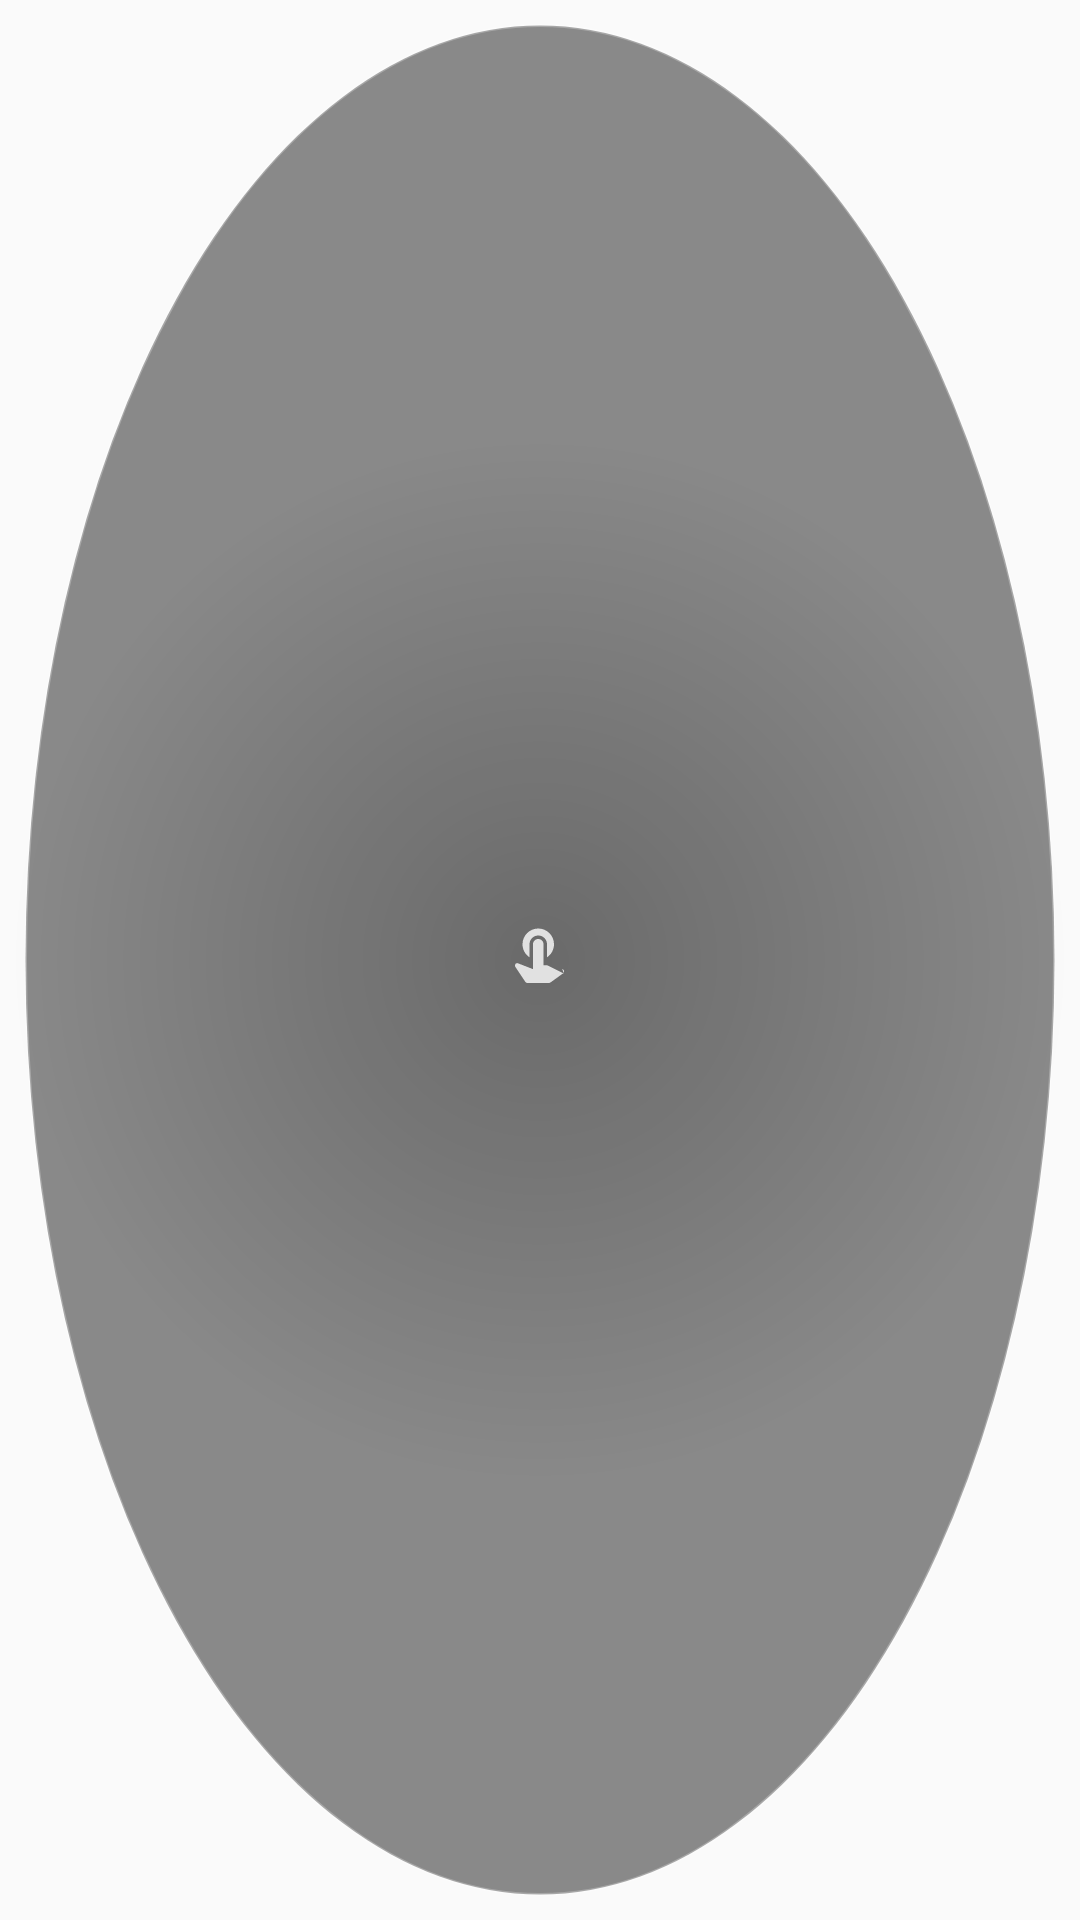

Point at icon controls on the screen. Image size 1080 x 1920, points as [x,y].
gesture: [539,955]
